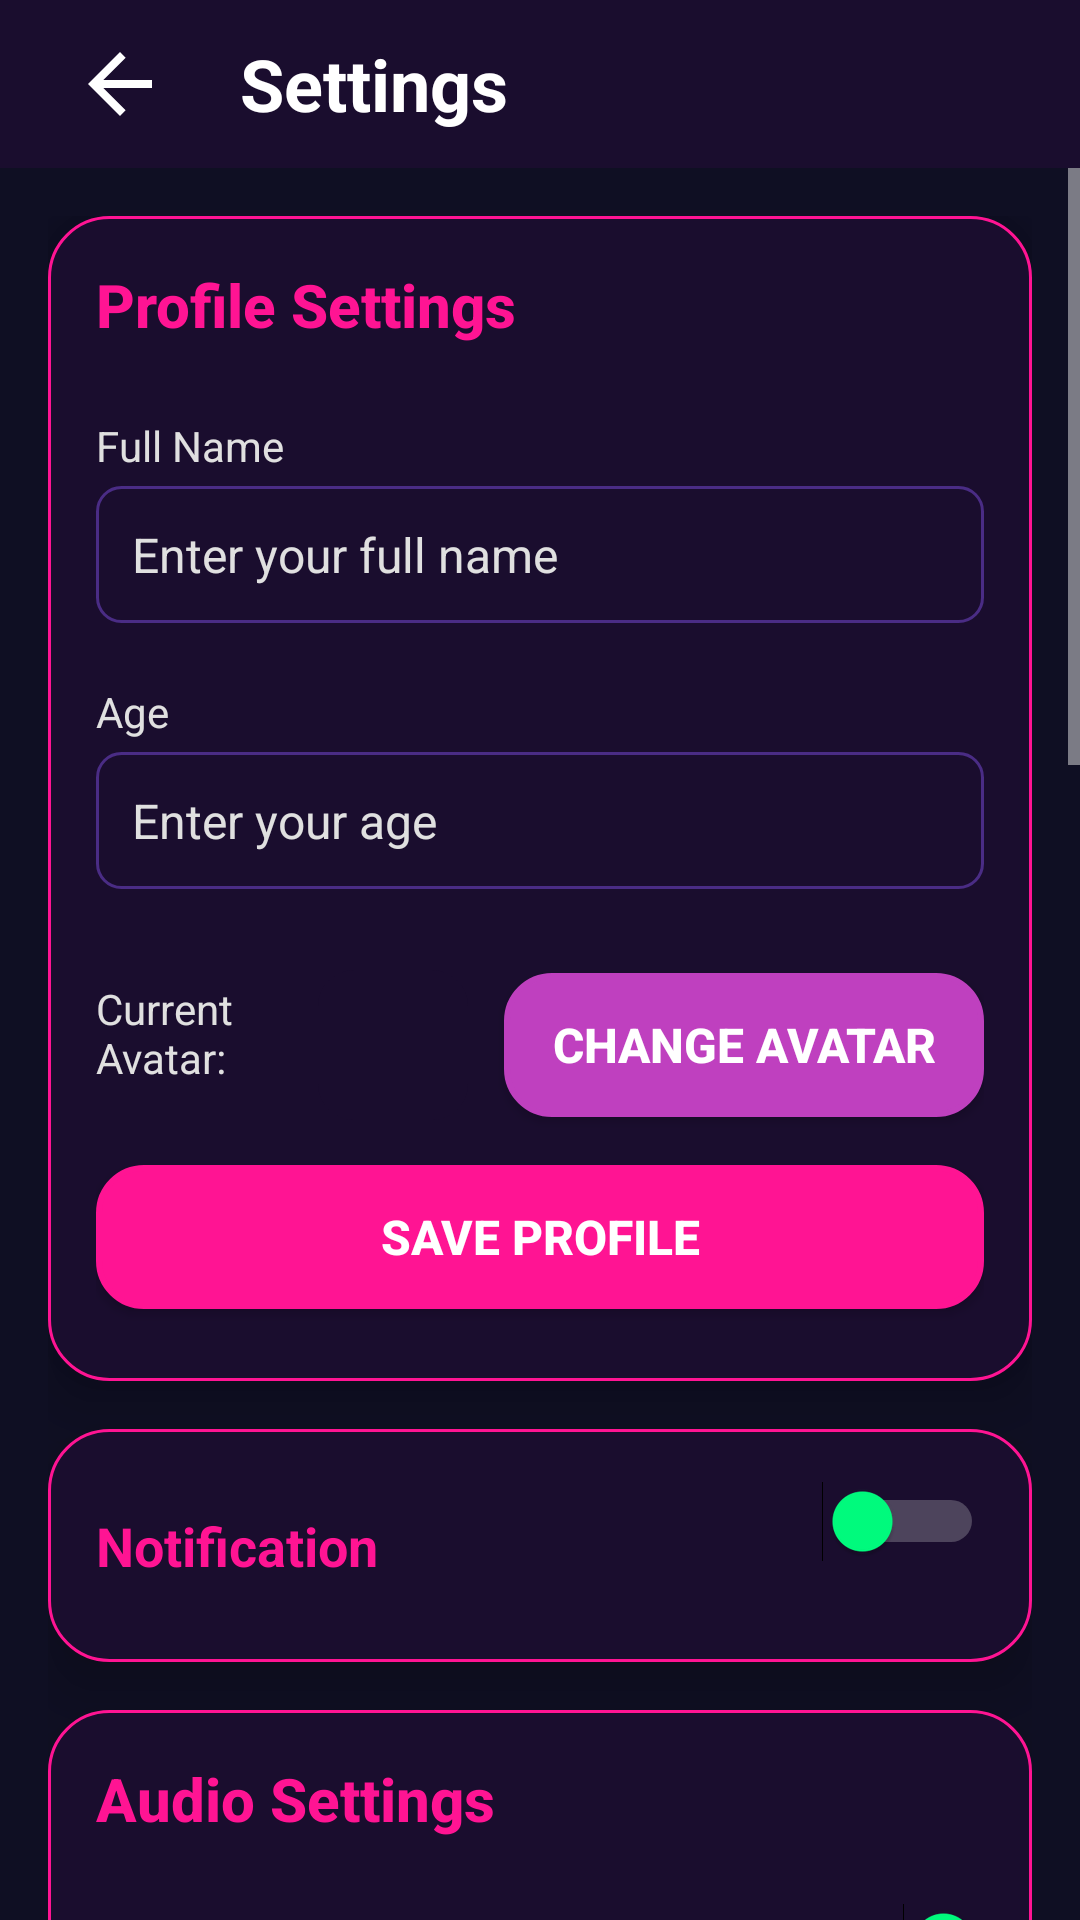

Icons on this 1080px×1920px Android screen, each with the point to tap as (x=x, y=y):
Back: (x=120, y=84)
